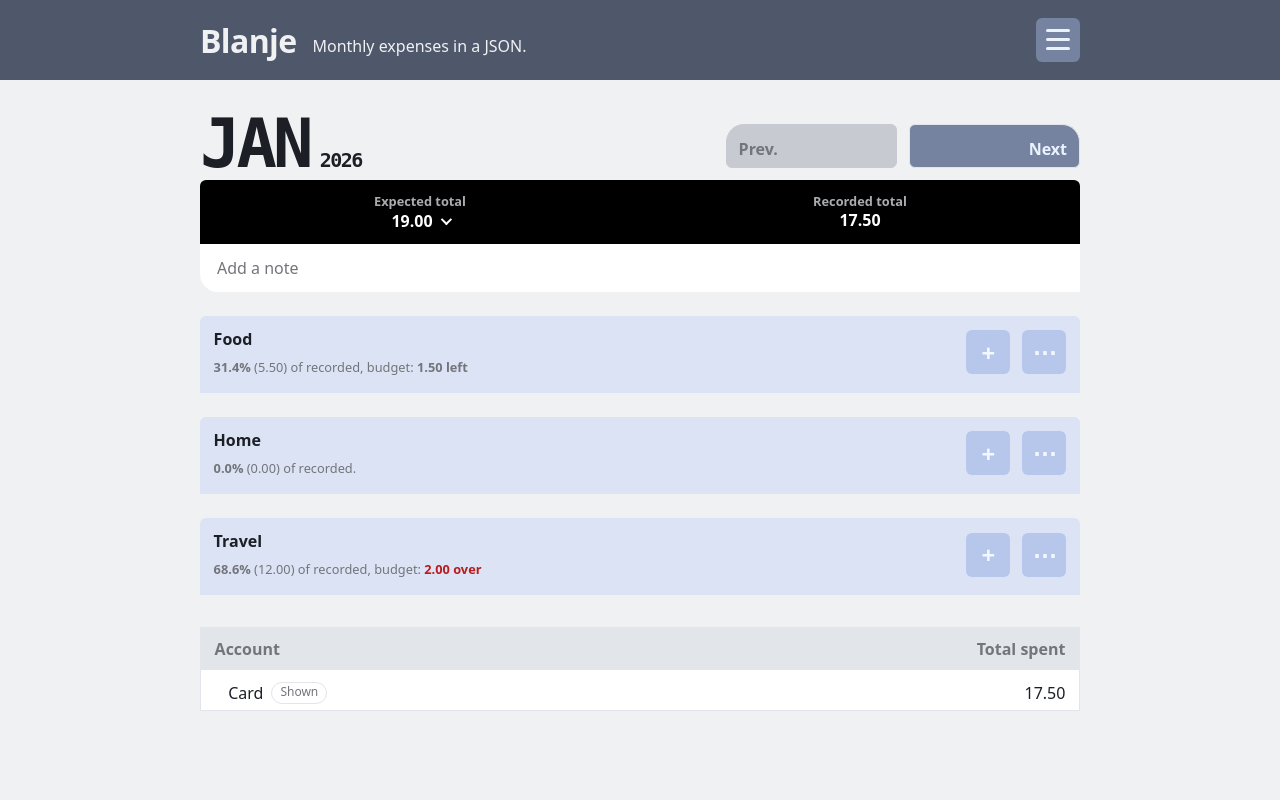
Test: App monthly table views › disables month navigation while editing an existing item
The width and height of the screenshot is (1280, 800).
Click the button with aria-label "Next month": [994, 146] box 909,124 -> 1080,168
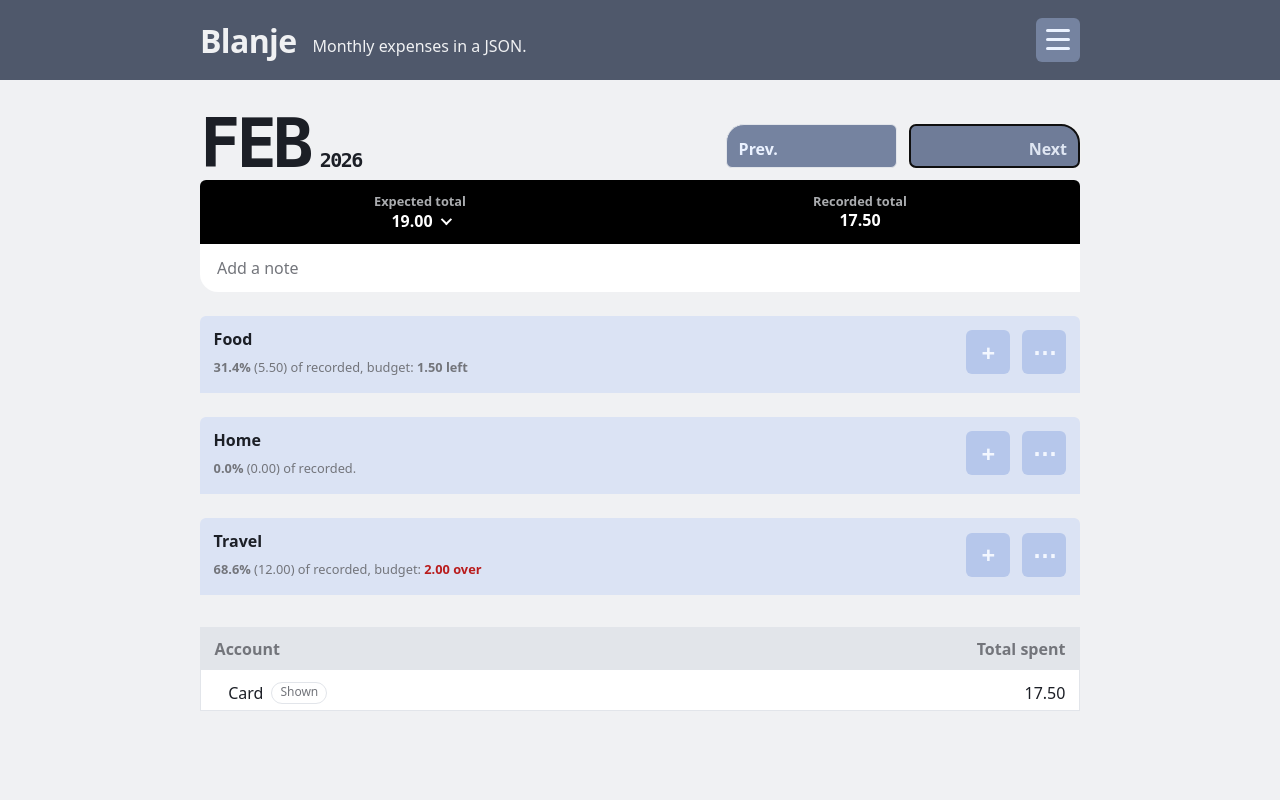
Click the button named "Food item list menu": [1044, 352] box 1022,330 -> 1066,374
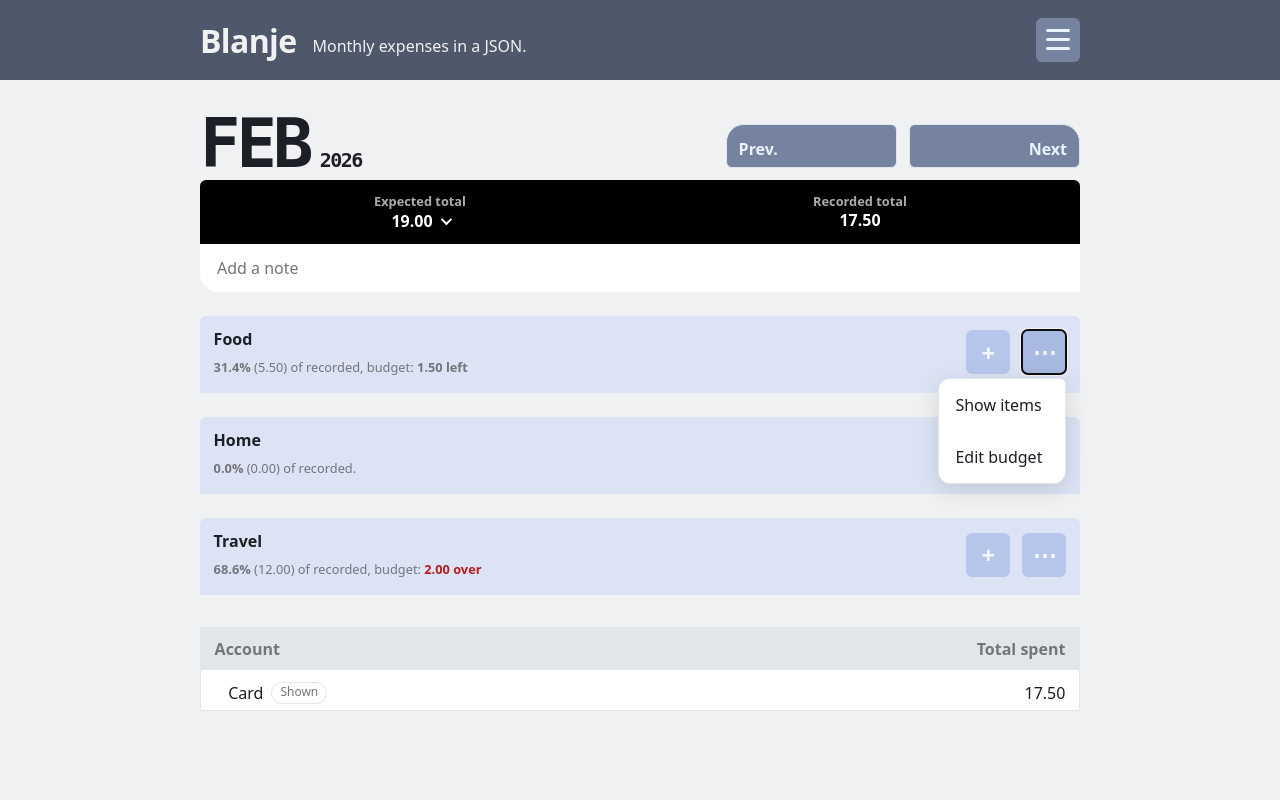
Click the menu item "Show items": [1002, 405] box 943,383 -> 1061,427
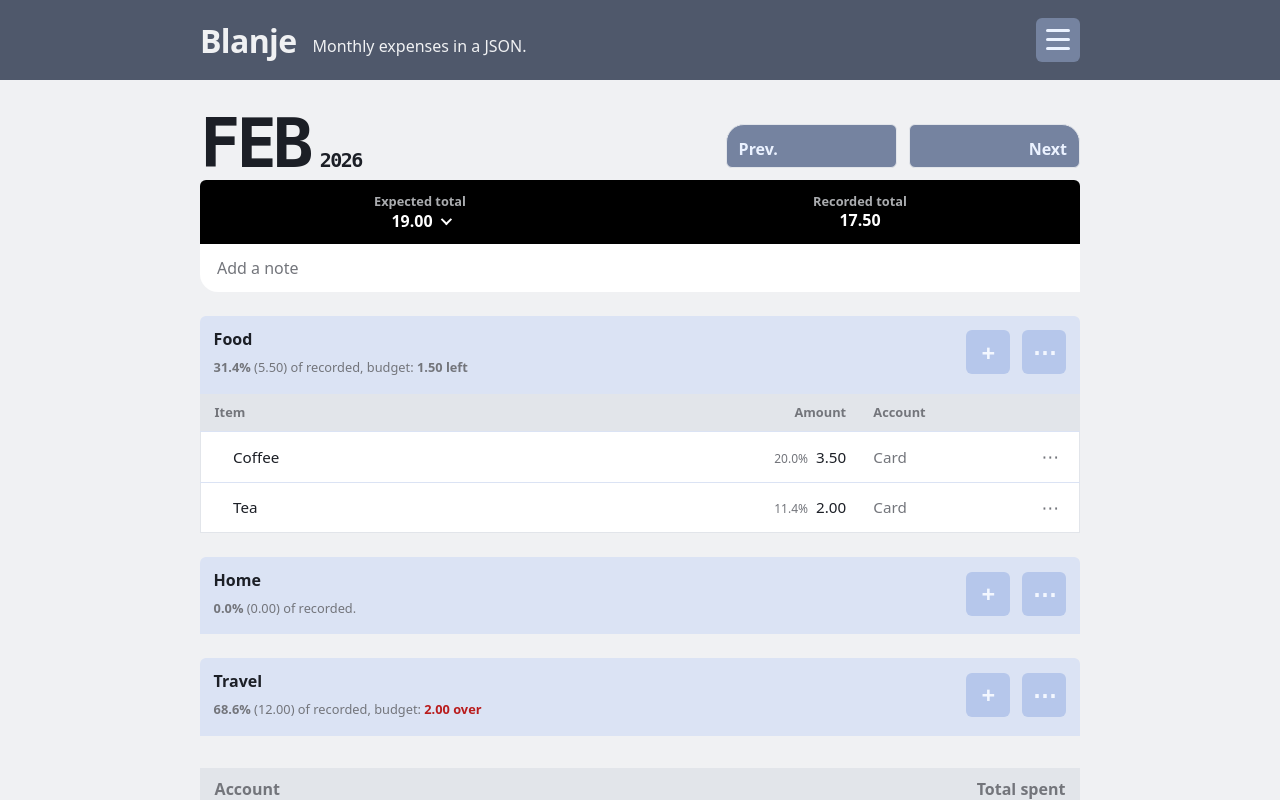
Click the button named "Item actions": [1050, 457] box 1035,442 -> 1065,472
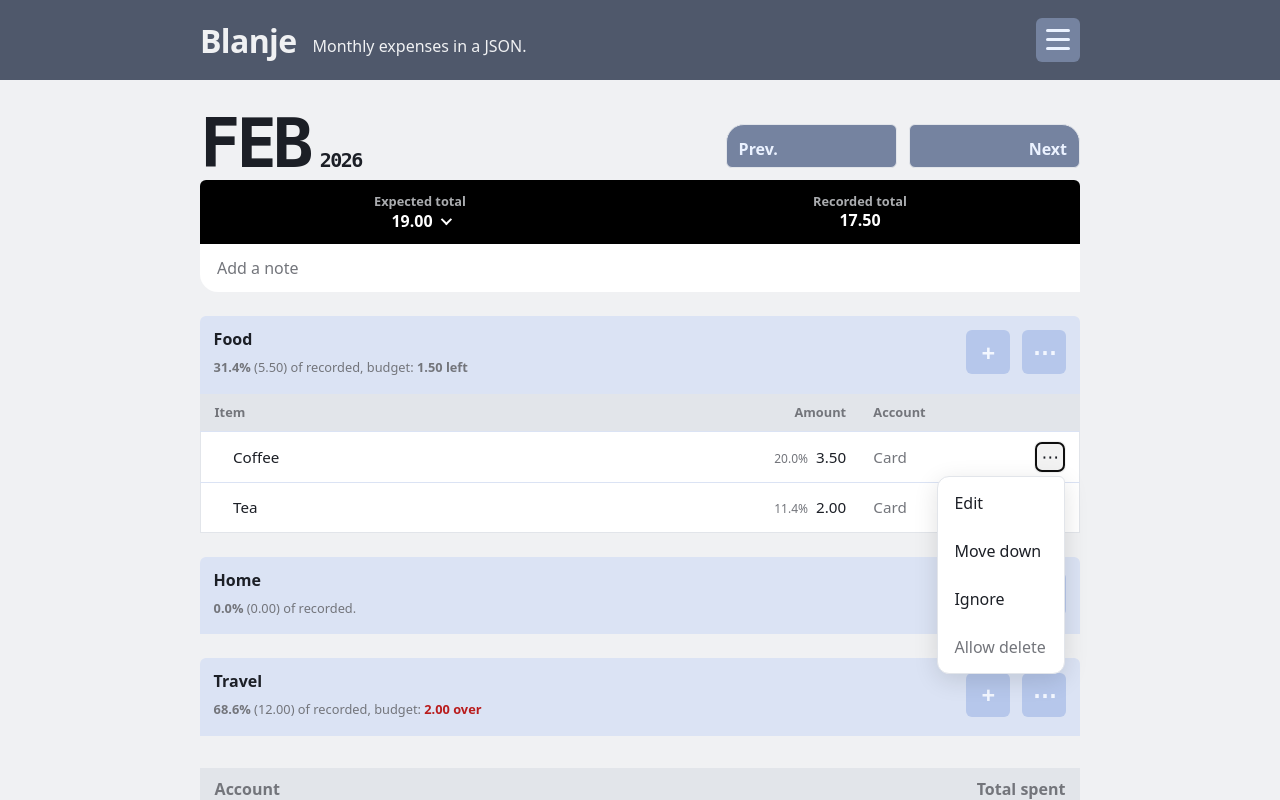
Click the menu item "Edit": [1001, 503] box 942,481 -> 1060,525
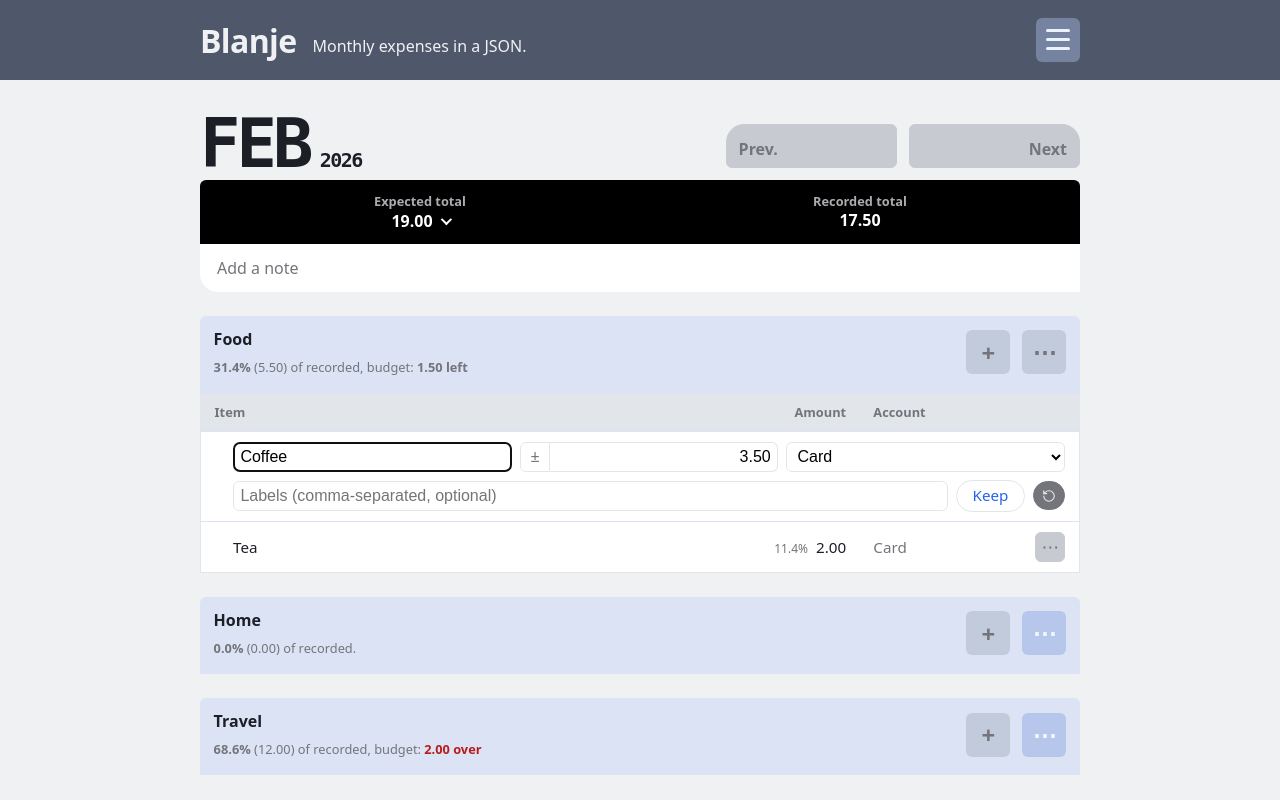
Now the button with aria-label "Previous month" is disabled, box 726,124 -> 897,168
Now the button with aria-label "Next month" is disabled, box 909,124 -> 1080,168
